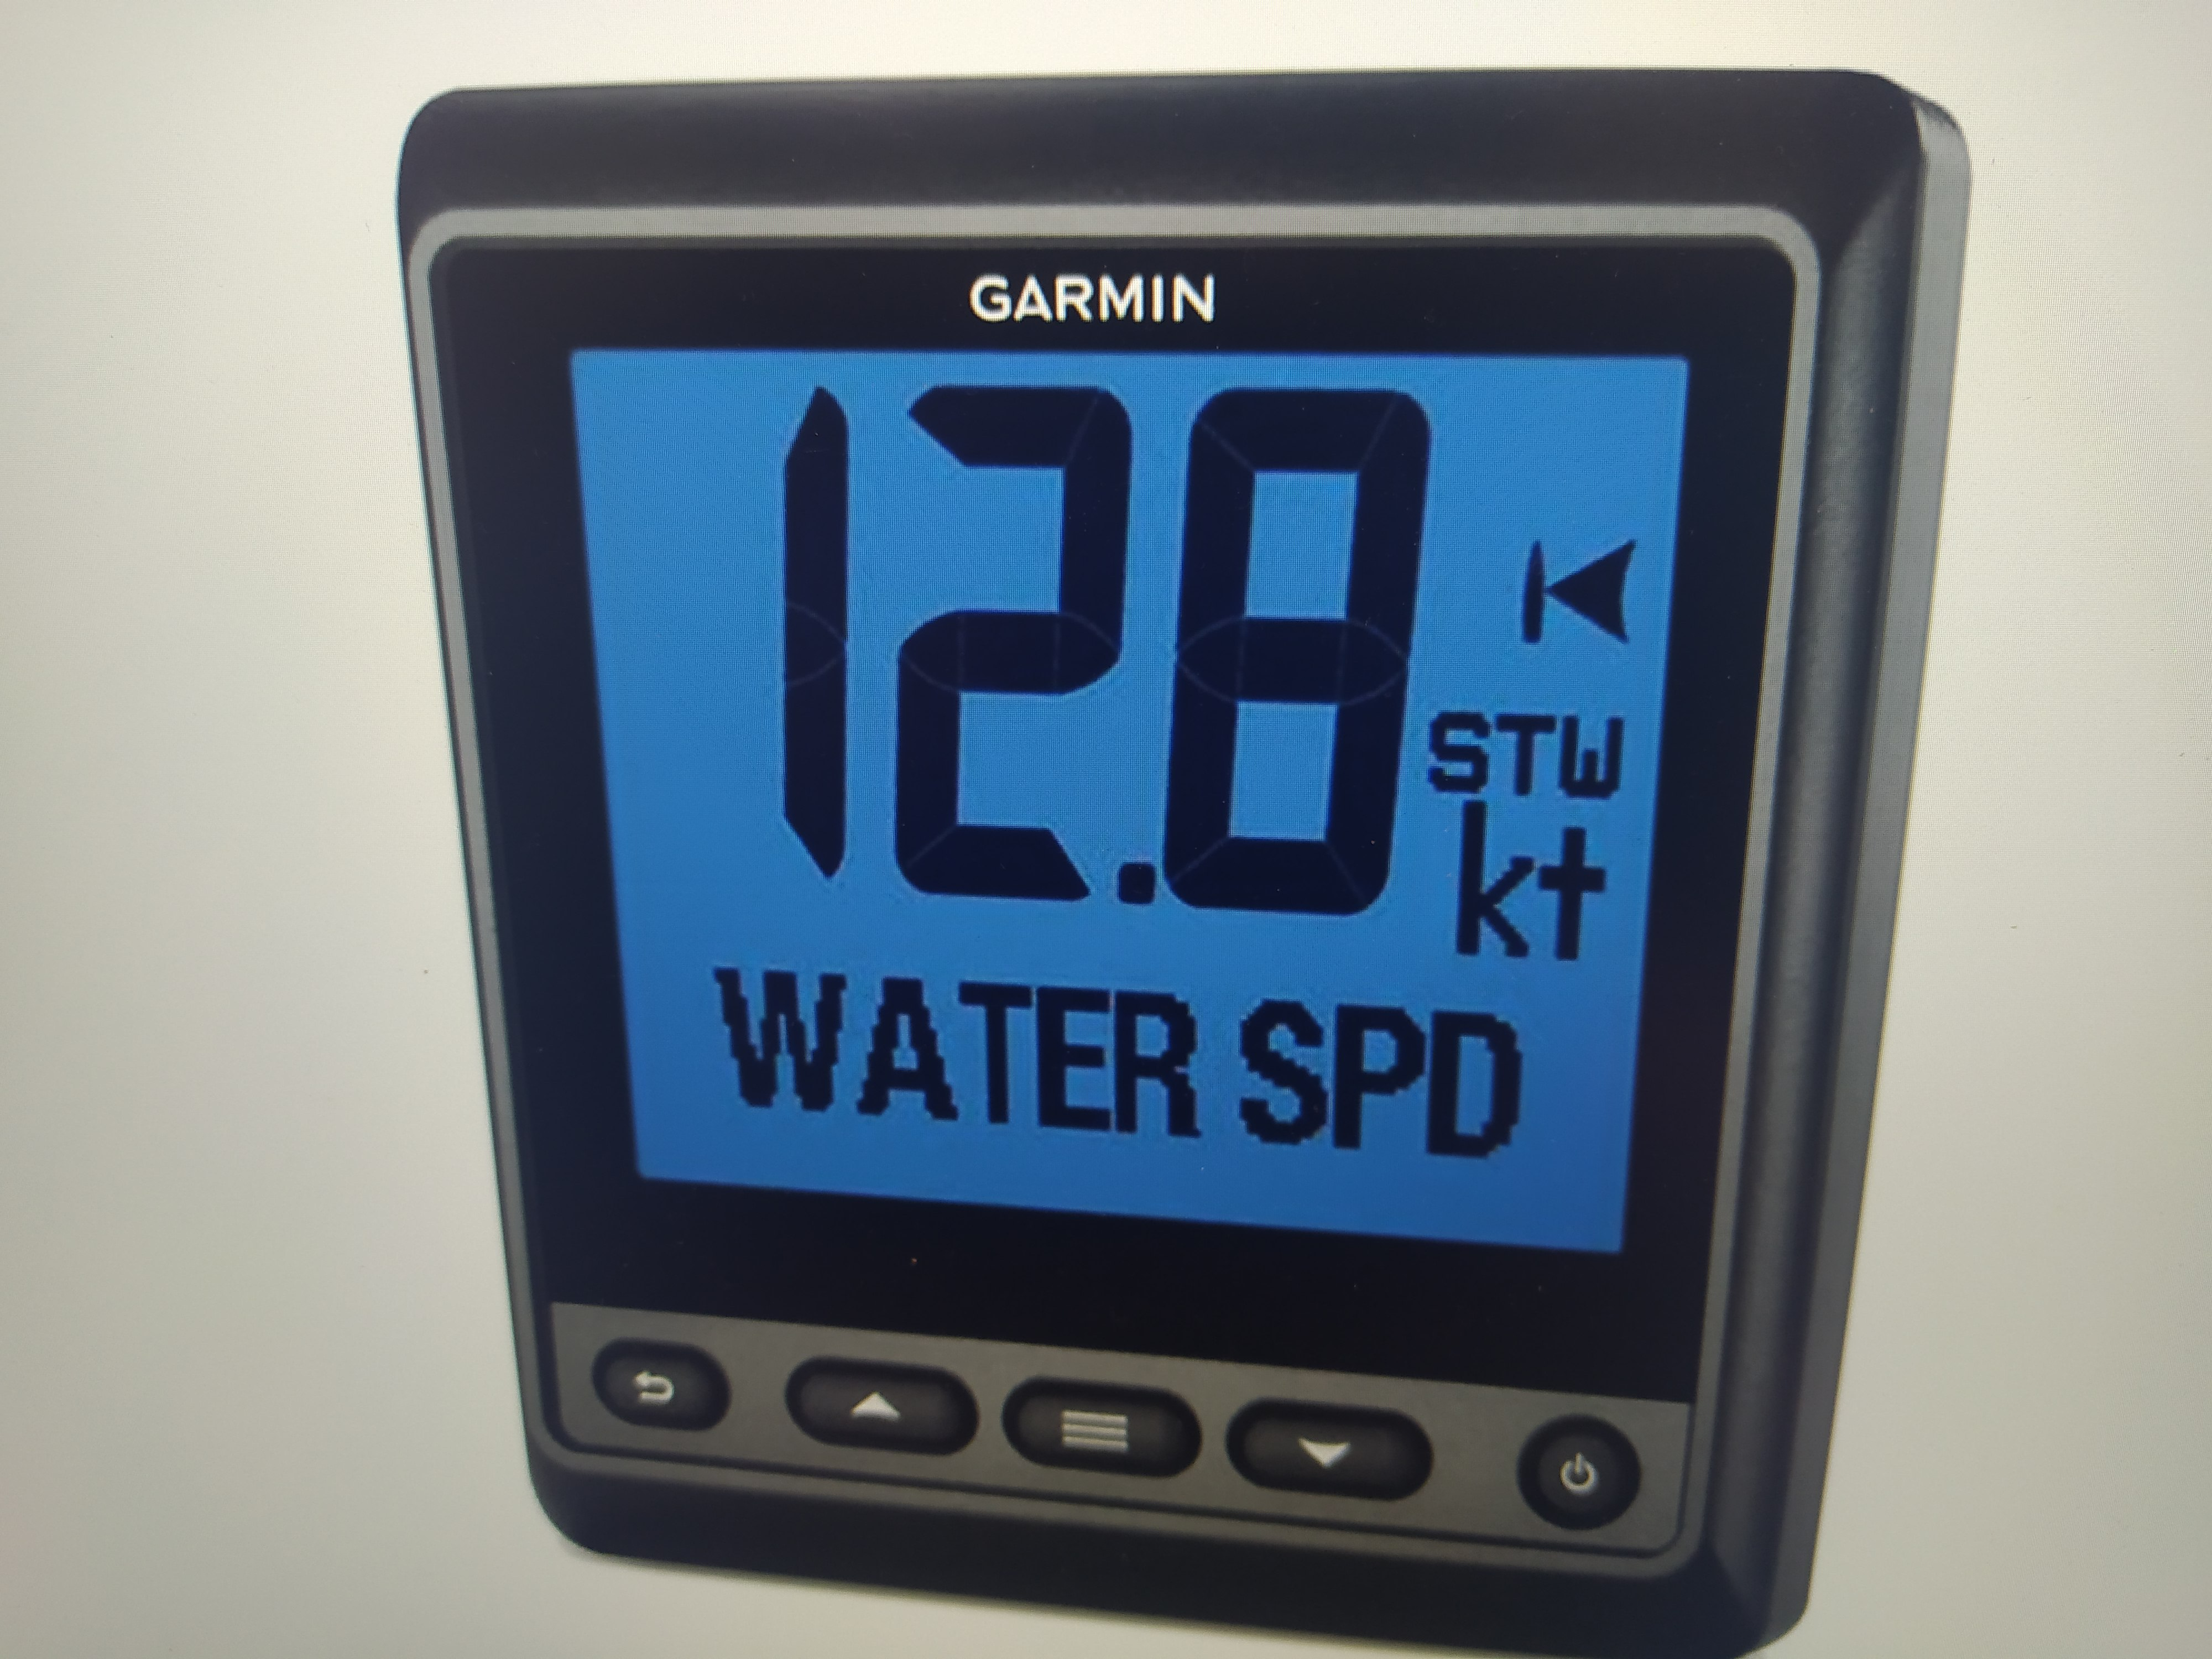.: (1118, 387, 1158, 901)
1: (782, 385, 850, 882)
2: (894, 385, 1134, 899)
8: (1163, 385, 1432, 915)
